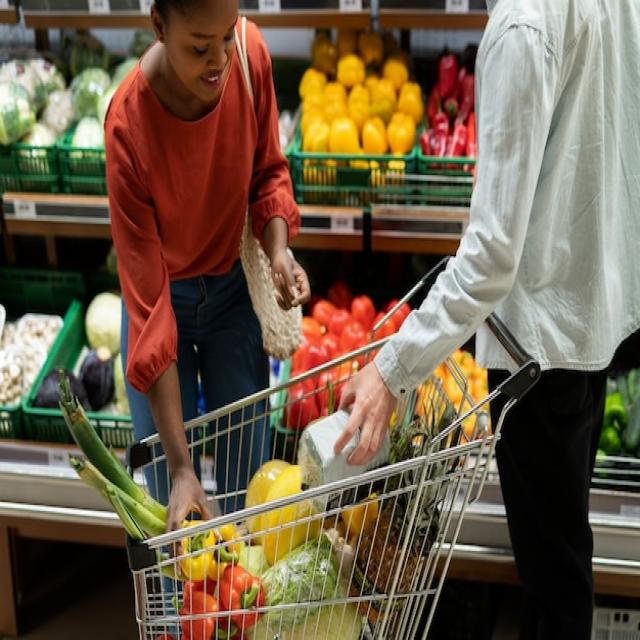Person: (335, 0, 640, 640), (103, 0, 310, 529)
